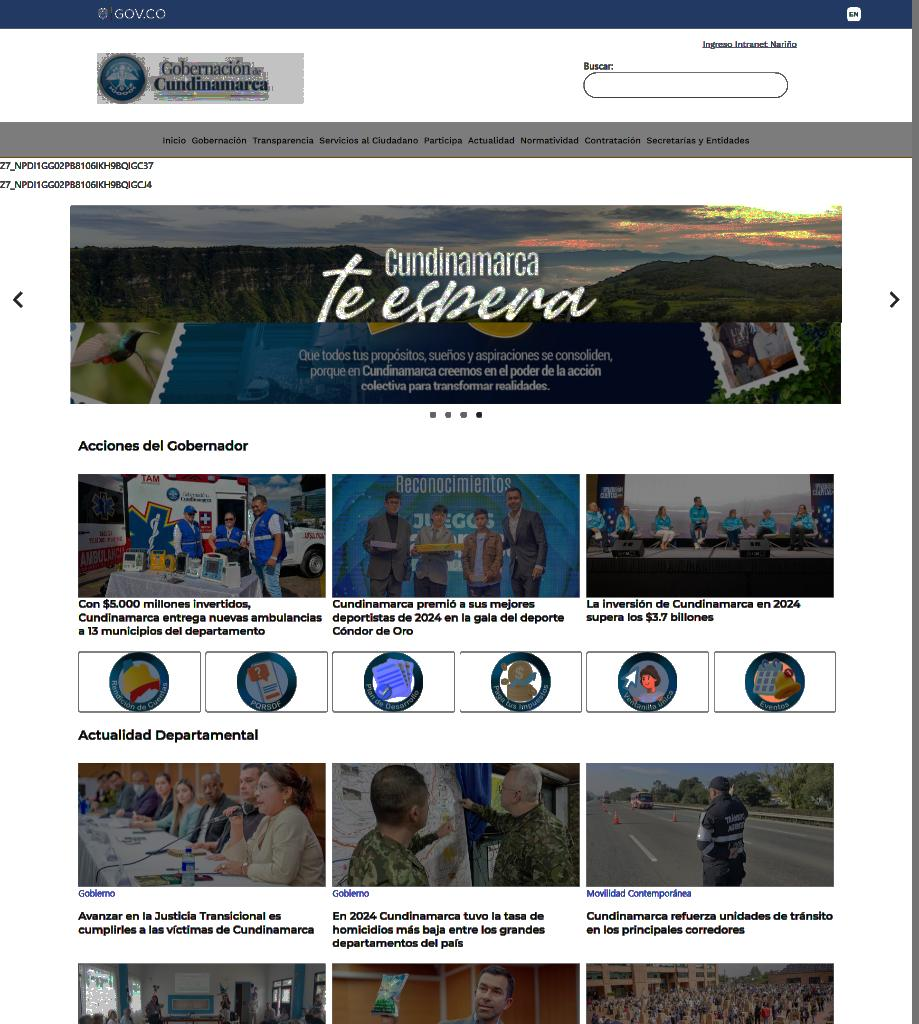banner principal: (6, 202, 904, 422)
barra govco: (94, 1, 864, 31)
btn buscador: (581, 60, 790, 100)
btn idiomas: (846, 7, 862, 23)
btn inicio: (159, 135, 191, 145)
btn inicio sesion: (702, 38, 736, 52)
btn normatividad: (516, 134, 584, 146)
btn participa: (423, 134, 465, 146)
btn transpariencia: (248, 133, 318, 147)
logogovco: (98, 4, 166, 24)
menu principal: (156, 120, 758, 154)
